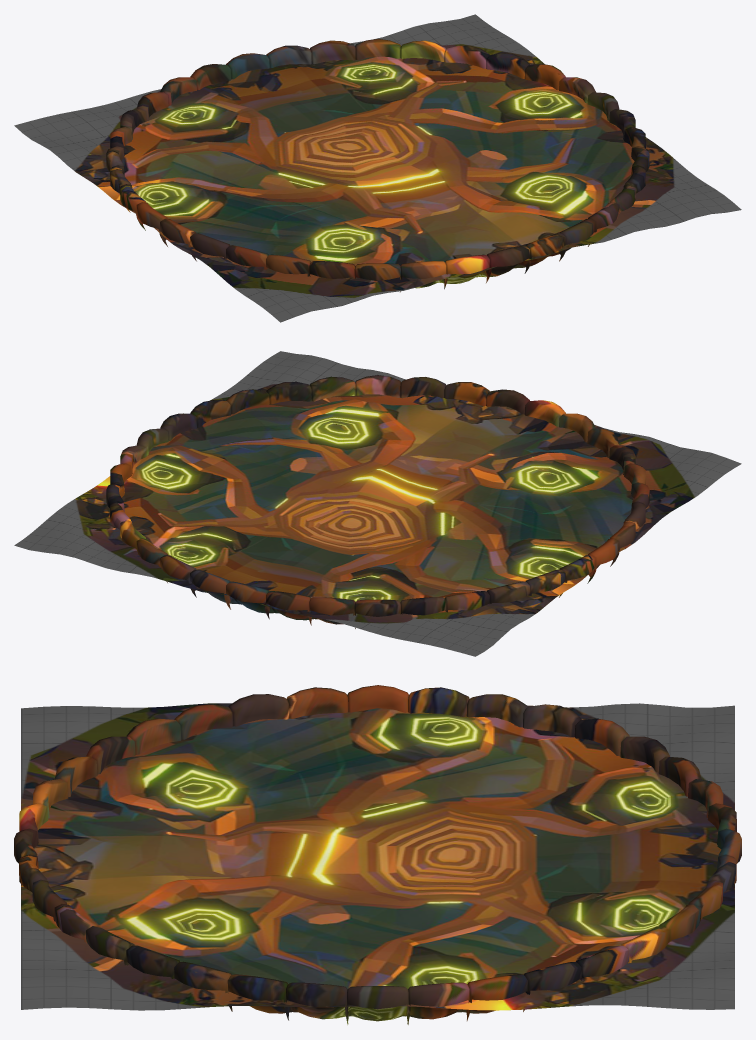
Rendered from pond.obj.
3 renders of one model, top to bottom at view 1: azimuth 30°, elevation 25°; view 2: azimuth 150°, elevation 25°; view 3: azimuth 270°, elevation 25°, orthographic. The views are drawn at different scales.
Visible parts, largest first — view 1: water2_water2Shape, border_borderShape; view 2: water2_water2Shape, border_borderShape; view 3: water2_water2Shape, border_borderShape.
Part boxes in pixels (<box>): water2_water2Shape: <box>14,14,741,322</box>; border_borderShape: <box>106,39,649,292</box>; water2_water2Shape: <box>14,351,741,656</box>; border_borderShape: <box>106,375,649,628</box>; water2_water2Shape: <box>21,703,734,1010</box>; border_borderShape: <box>14,685,741,1024</box>.
Bounding box in the file's own units: 54.89 × 4.16 × 54.89.
Materials: 1 (1 with a texture image).
